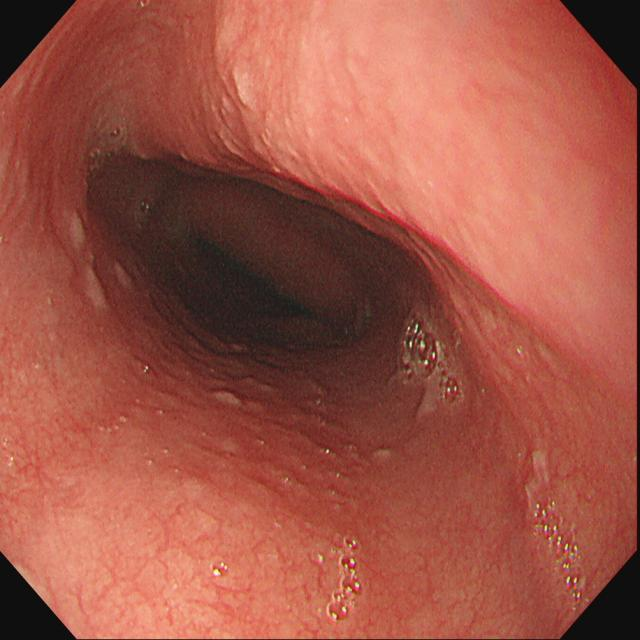E: (130, 161, 372, 350)
J: (86, 263, 111, 315), (67, 205, 92, 256), (113, 248, 138, 299), (216, 384, 248, 417)
T: (531, 496, 590, 613), (396, 313, 463, 407), (327, 532, 365, 624)
